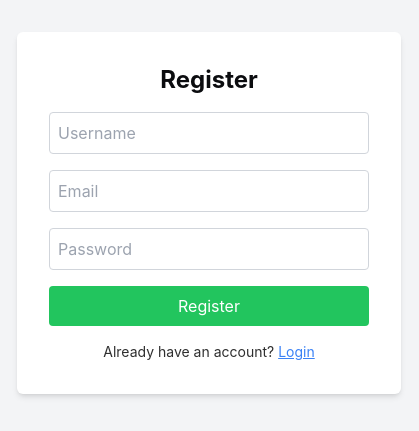
Test: Register Component › successful registration navigates to login
The image size is (419, 431).
In the field with placeholder "Username": (209, 133) [49, 112, 369, 154], type "testuser"
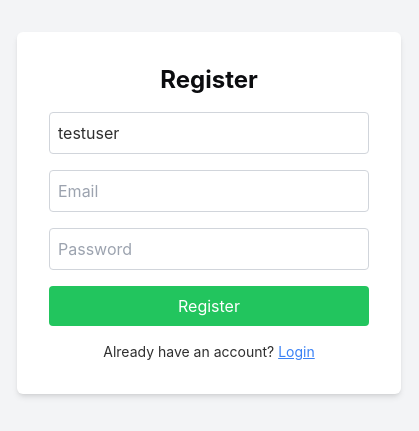
In the field with placeholder "Email": (209, 191) [49, 170, 369, 212], type "test@example.com"
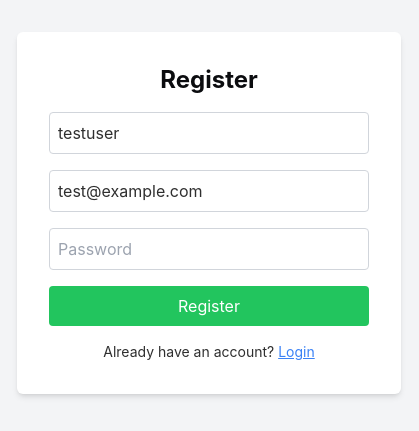
In the password field with placeholder "Password": (209, 249) [49, 228, 369, 270], type "password123"
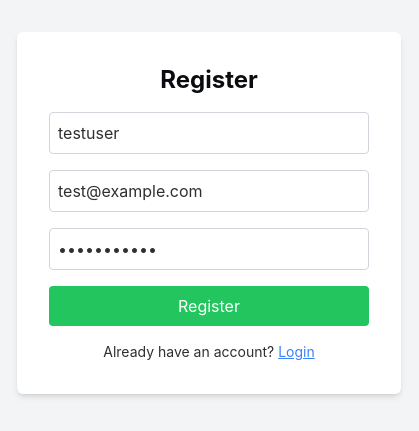
Click the button "Register": (209, 306) [49, 286, 369, 326]
Wait 2000 ms
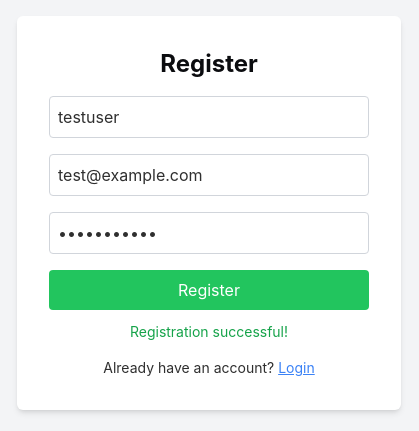
Now the text "Registration successful!" is shown, box [130, 323, 288, 340]
